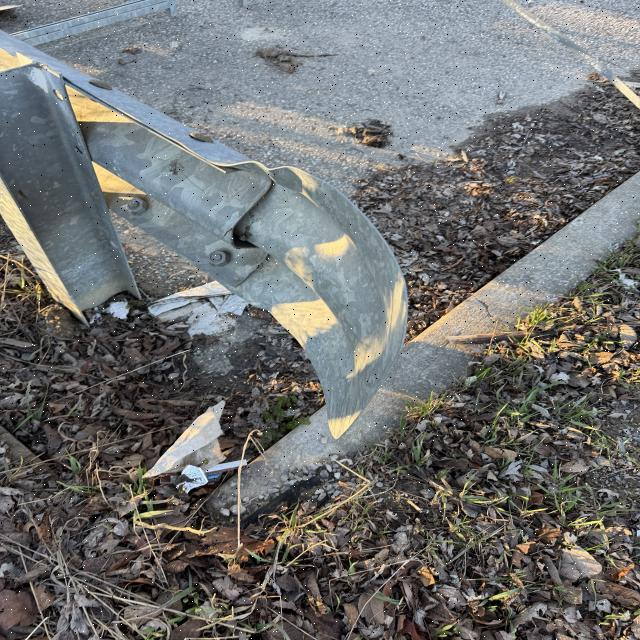Guard rail: (0, 78, 398, 325)
